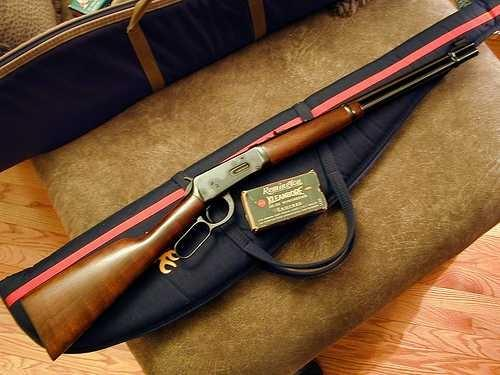heavyweapon: (28, 29, 492, 364)
